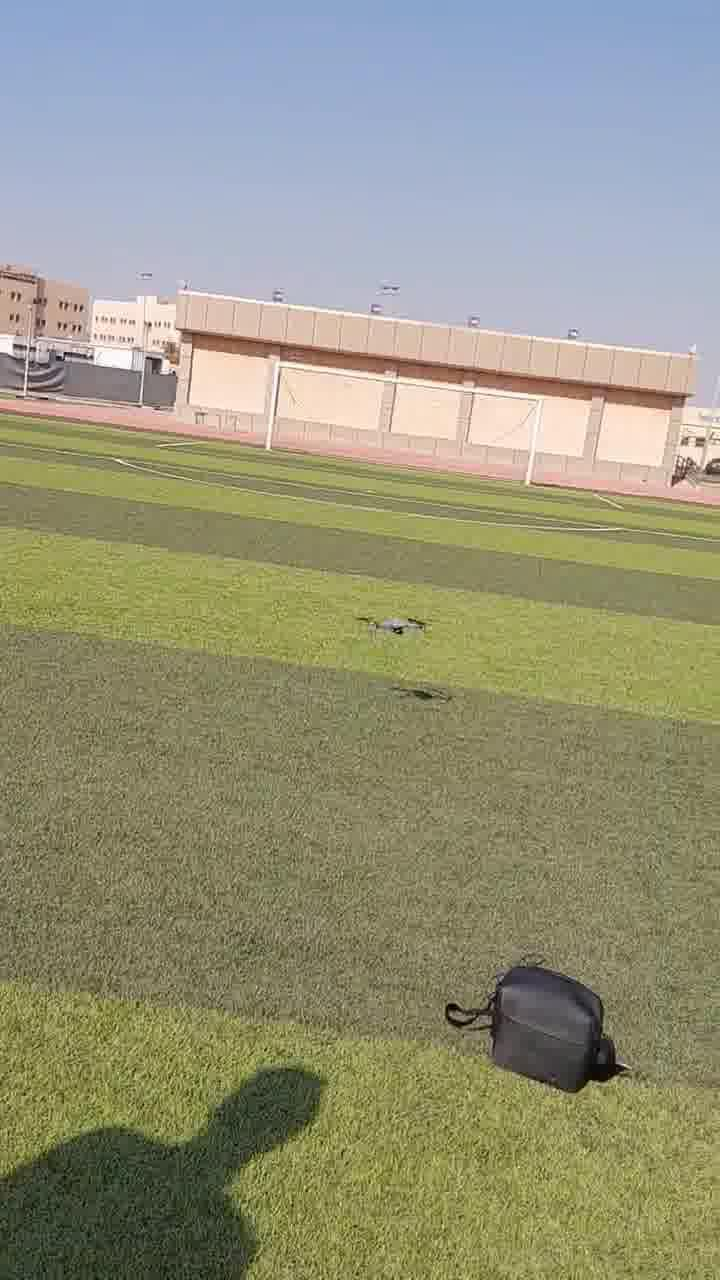drone: (351, 612, 444, 648)
